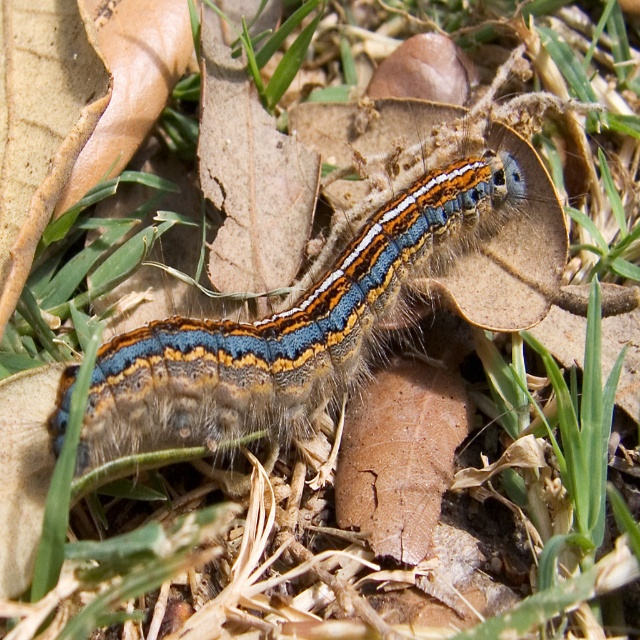Caterpillar: (0, 89, 588, 483)
